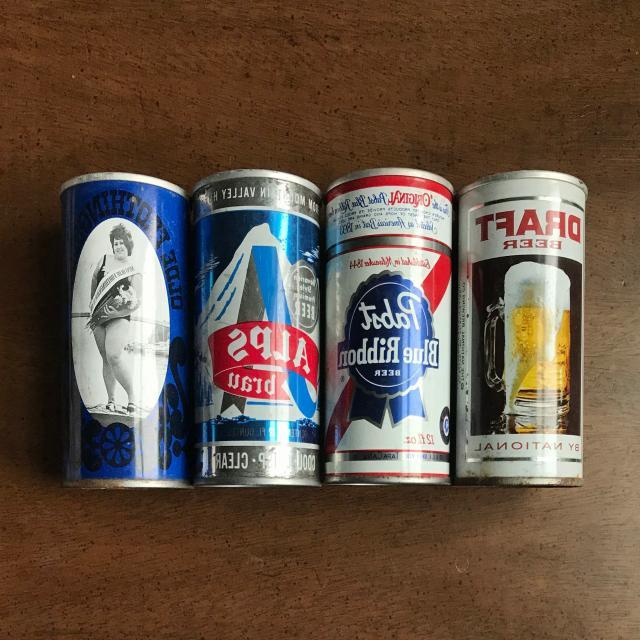can: (306, 144, 456, 491), (181, 146, 322, 492), (459, 146, 593, 494), (58, 148, 189, 495)
